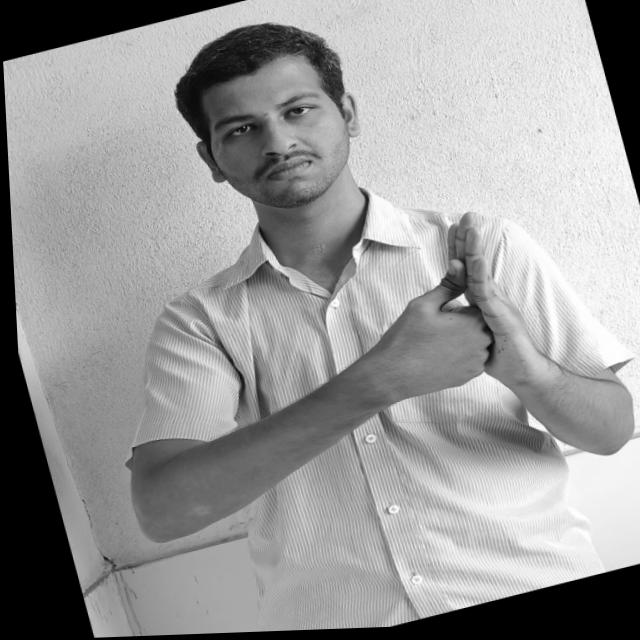Well Done: (370, 206, 539, 415)
